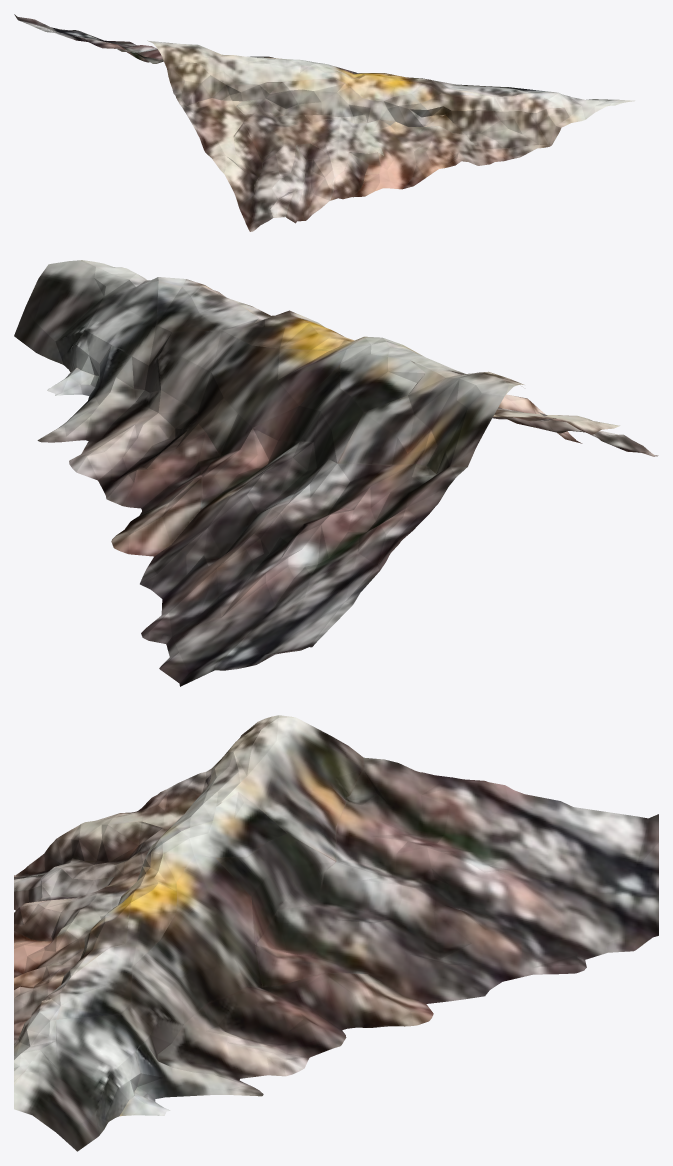
3 views of the same model, one above another, from view 1: azimuth 30°, elevation 25°; view 2: azimuth 150°, elevation 25°; view 3: azimuth 270°, elevation 25° (orthographic). The views are drawn at different scales.
Size of the model in its own units: 1.67 by 0.4702 by 1.67.
2 materials, 2 textured.
